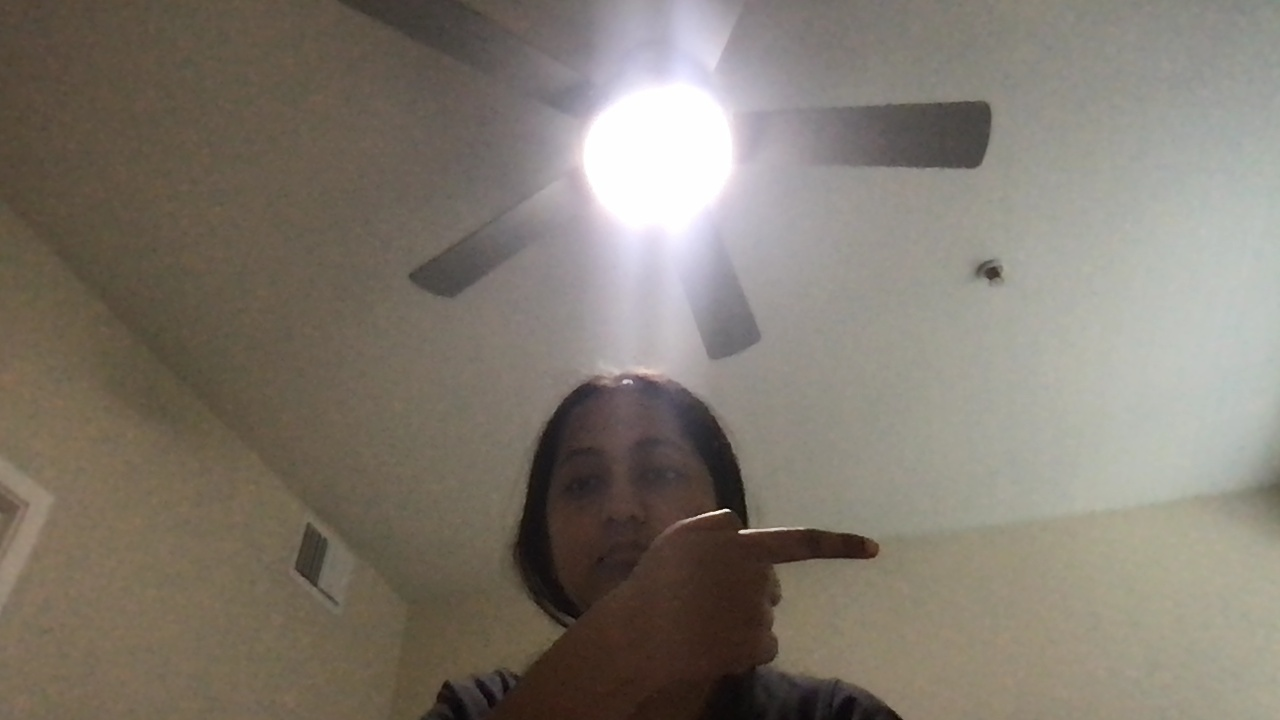g: (655, 510, 921, 678)
